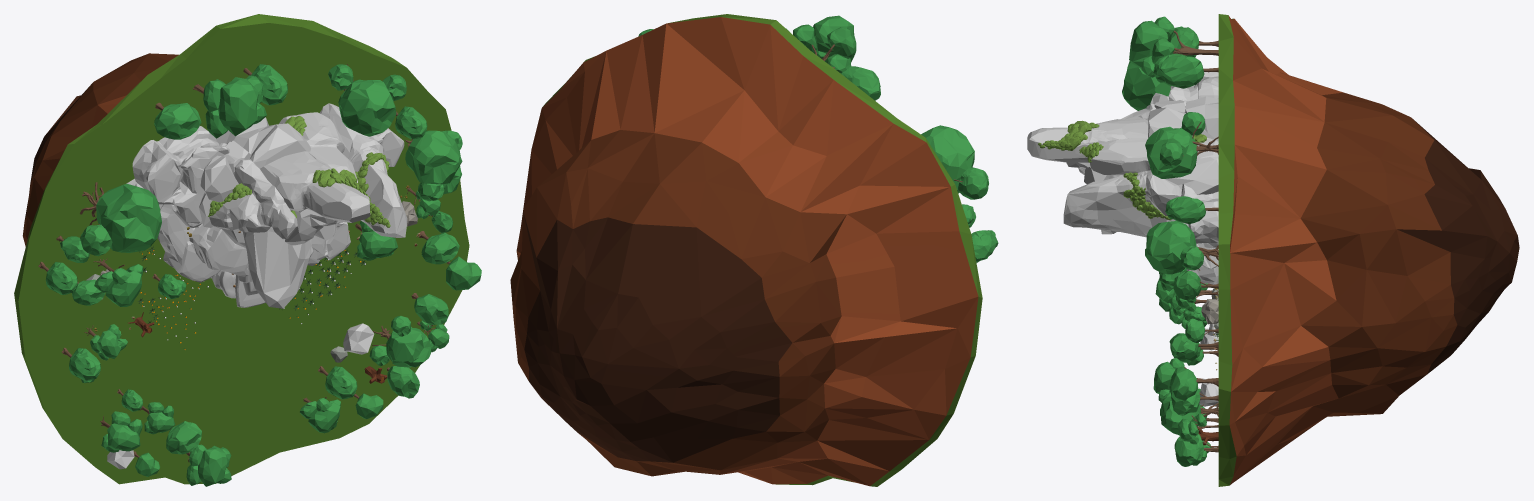
Rendered from Lv2-1 entire.fbx.
3 views of the same model, side by side, from view 1: azimuth 30°, elevation 25°; view 2: azimuth 150°, elevation 25°; view 3: azimuth 270°, elevation 25° (orthographic). The views are drawn at different scales.
Parts seen in each view (by area): view 1: FloatingIslandA.003, Group17854, Group56873, Group40284.001, Cave_G, Group4424, Group57054.001, Group54428, Group14119, Group57054.003, Group57054.002, Group40284 (+30 smaller); view 2: FloatingIslandA.003, Group57054.001, Group63488.002, Group46276.001, Group63459.002, Group63485.002, Group63453.001; view 3: FloatingIslandA.003, Group54428, Group40284.001, Group40284, Group57054.002, Group57054.003, Group14119, Group63453.003, Group57054.001, Group17854.003, Group63488.002, Group17854 (+7 smaller).
Part boxes in pixels (x1,y1,x2,y2): FloatingIslandA.003: (14, 14, 469, 484); Group17854: (132, 126, 229, 223); Group56873: (157, 204, 248, 282); Group40284.001: (260, 151, 370, 222); Cave_G: (243, 210, 312, 308); Group4424: (209, 159, 297, 239); Group57054.001: (96, 184, 161, 252); Group54428: (320, 103, 407, 237); Group14119: (215, 117, 310, 247); Group57054.003: (338, 79, 396, 136); Group57054.002: (405, 130, 462, 184); Group40284: (279, 112, 357, 182); FloatingIslandA.003: (510, 14, 982, 486); Group57054.001: (921, 125, 974, 193); Group63488.002: (813, 15, 856, 62); Group46276.001: (958, 167, 988, 199); Group63459.002: (841, 66, 880, 100); Group63485.002: (827, 27, 855, 58); Group63453.001: (971, 230, 998, 262); FloatingIslandA.003: (1218, 14, 1519, 486); Group54428: (1063, 157, 1218, 268); Group40284.001: (1027, 118, 1148, 162); Group40284: (1090, 138, 1218, 175); Group57054.002: (1145, 221, 1196, 274); Group57054.003: (1145, 126, 1197, 178); Group14119: (1148, 96, 1218, 140); Group63453.003: (1153, 53, 1204, 88); Group57054.001: (1122, 61, 1170, 110); Group17854.003: (1181, 183, 1218, 248); Group63488.002: (1129, 20, 1168, 68); Group17854: (1168, 72, 1218, 101).
Size of the model in its own units: 30028 by 28862 by 30215.
